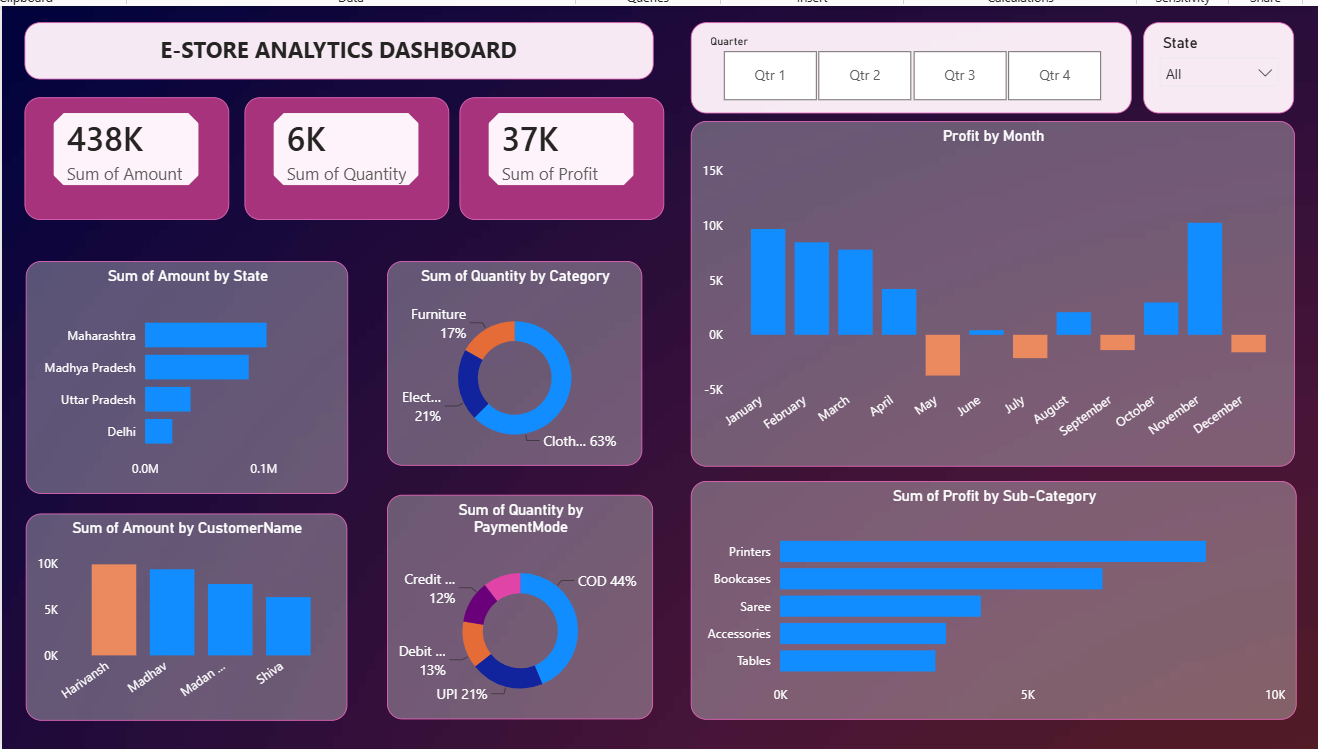

The dashboard page shown, as its layout file describes it:
{"tool":"powerbi","page":{"name":"Page 1","canvas":[1280,720],"ordinal":0},"visuals":[{"type":"columnChart","title":"Profit by Month","fields":{"Category":["Orders.Order Date.Variation.Date Hierarchy.Month"],"Y":["Sum(Details.Profit)"]},"box":[664.7,111,583.2,333.4],"z":0},{"type":"textbox","box":[21.7,15.7,606.8,55.5],"z":1000},{"type":"barChart","fields":{"Category":["Details.Sub-Category"],"Y":["Sum(Details.Profit)"]},"box":[664.7,458.4,584.6,230.5],"z":2000},{"type":"donutChart","fields":{"Y":["Sum(Details.Quantity)"],"Category":["Details.PaymentMode"]},"box":[371.6,471.7,257,217.2],"z":3000},{"type":"donutChart","fields":{"Category":["Details.Category"],"Y":["Sum(Details.Quantity)"]},"box":[371.6,246.1,246.1,197.9],"z":4000},{"type":"cardVisual","fields":{"Data":["Sum(Details.Profit)"]},"box":[441.9,87.8,197.6,118],"z":5000},{"type":"cardVisual","fields":{"Data":["Sum(Details.Quantity)"]},"box":[234.6,87.8,197.6,118],"z":6000},{"type":"cardVisual","fields":{"Data":["Sum(Details.Amount)"]},"box":[22,87.8,197.6,118],"z":7000},{"type":"barChart","fields":{"Category":["Orders.State"],"Y":["Sum(Details.Amount)"]},"box":[22.9,246.1,311.5,225],"z":8000},{"type":"columnChart","fields":{"Category":["Orders.CustomerName"],"Y":["Sum(Details.Amount)"]},"box":[22.9,489.8,310.1,200.3],"z":9000},{"type":"slicer","fields":{"Values":["Orders.Order Date.Variation.Date Hierarchy.Quarter"]},"box":[664.7,15.7,425.9,88.1],"z":10000},{"type":"slicer","fields":{"Values":["Orders.State"]},"box":[1101.5,15.7,146,88.1],"z":10001}]}

Visuals, with their boxes in screenshot pixels (x1, y1, x2, y2):
"Profit by Month" columnChart: <region>676, 117, 1290, 468</region>
textbox: <region>0, 17, 638, 75</region>
barChart - Details.Sub-Category x Sum(Details.Profit): <region>676, 483, 1291, 725</region>
donutChart - Sum(Details.Quantity) x Details.PaymentMode: <region>367, 497, 638, 725</region>
donutChart - Details.Category x Sum(Details.Quantity): <region>367, 259, 626, 467</region>
cardVisual - Sum(Details.Profit): <region>441, 92, 649, 217</region>
cardVisual - Sum(Details.Quantity): <region>223, 92, 431, 217</region>
cardVisual - Sum(Details.Amount): <region>0, 92, 207, 217</region>
barChart - Orders.State x Sum(Details.Amount): <region>0, 259, 328, 496</region>
columnChart - Orders.CustomerName x Sum(Details.Amount): <region>0, 516, 327, 727</region>
slicer - Orders.Order Date.Variation.Date Hierarchy.Quarter: <region>676, 17, 1124, 109</region>
slicer - Orders.State: <region>1136, 17, 1289, 109</region>
